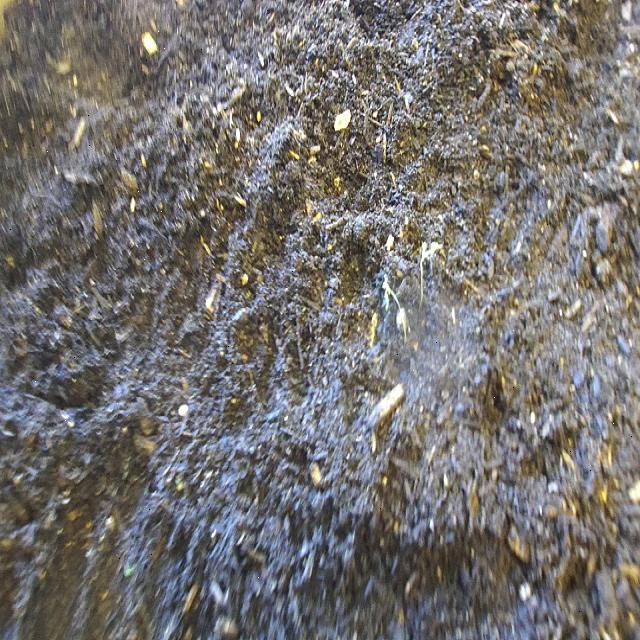Unhealthy: (377, 230, 444, 340)
